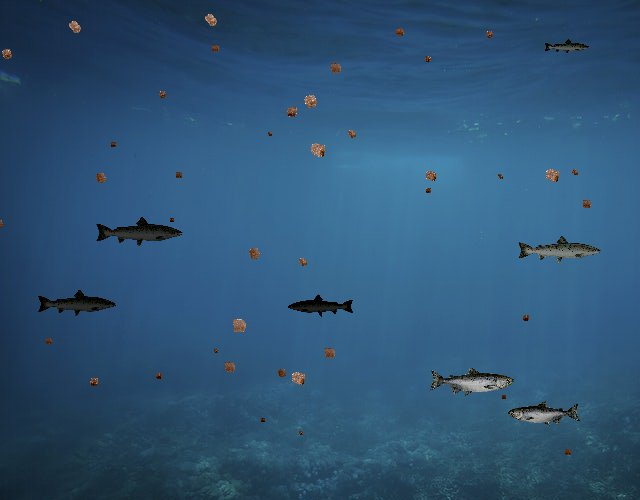Fish: (94, 215, 184, 248), (516, 234, 602, 265), (428, 366, 514, 397), (36, 289, 117, 318), (508, 400, 581, 427), (288, 293, 356, 318), (543, 39, 590, 56)
Pellet: (0, 43, 18, 65), (577, 195, 596, 214), (342, 124, 361, 143), (391, 23, 408, 41), (422, 184, 435, 197), (107, 139, 119, 151), (210, 346, 220, 356)
